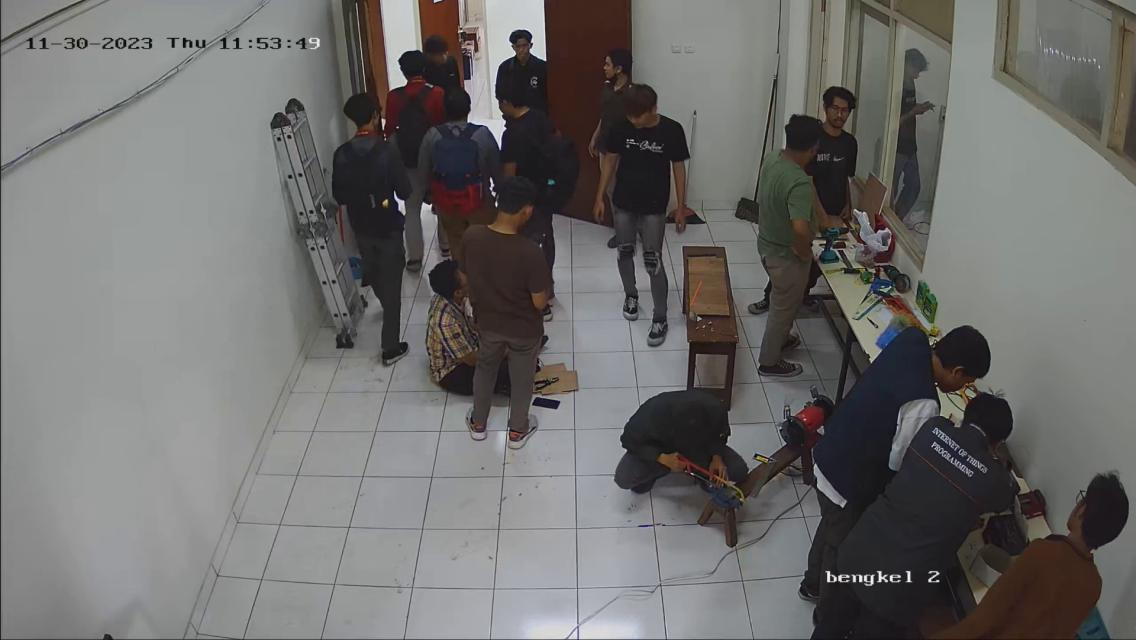Crowd: (314, 13, 721, 463)
